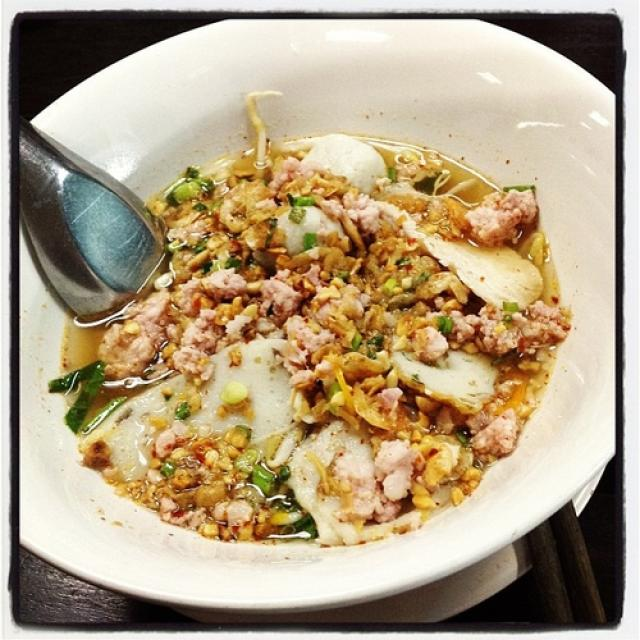猪肉菜式: (29, 26, 616, 604)
